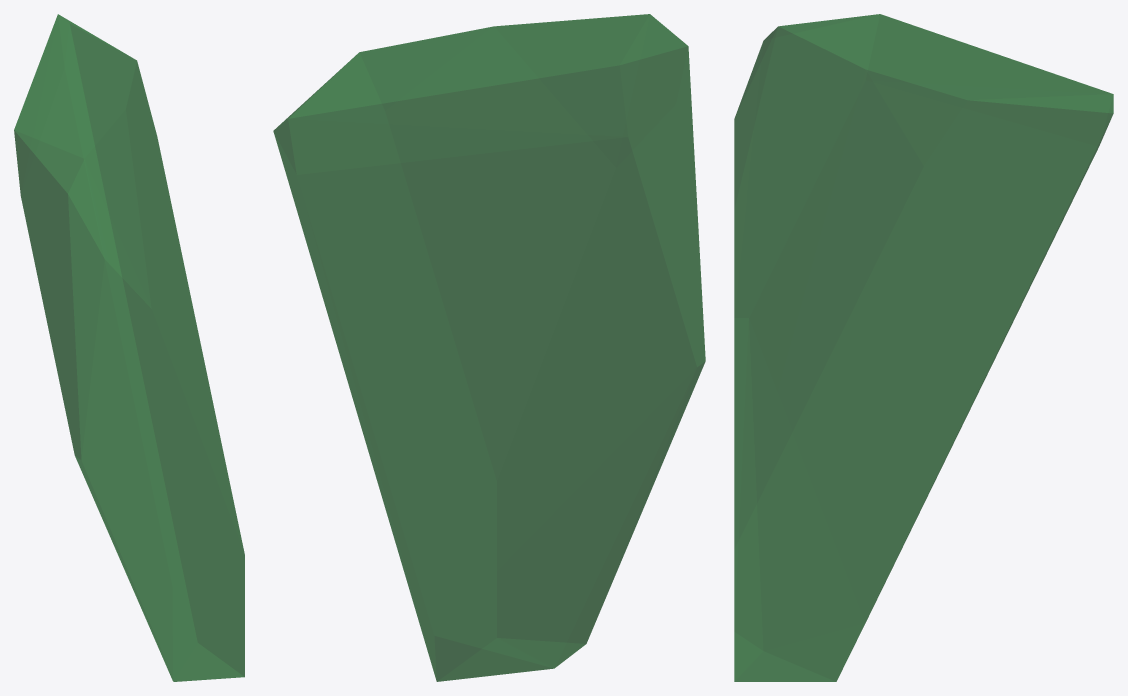
The picture shows the model from 3 angles, left to right: view 1: azimuth 30°, elevation 25°; view 2: azimuth 150°, elevation 25°; view 3: azimuth 270°, elevation 25°; orthographic projection. The views are drawn at different scales.
Visible parts, largest first — view 1: Shape_IndexedFaceSet.077_Shape_IndexedFaceSet.7828; view 2: Shape_IndexedFaceSet.077_Shape_IndexedFaceSet.7828; view 3: Shape_IndexedFaceSet.077_Shape_IndexedFaceSet.7828.
Part boxes in pixels (x1=…): Shape_IndexedFaceSet.077_Shape_IndexedFaceSet.7828: x1=14, y1=14, x2=244, y2=681; Shape_IndexedFaceSet.077_Shape_IndexedFaceSet.7828: x1=273, y1=14, x2=705, y2=681; Shape_IndexedFaceSet.077_Shape_IndexedFaceSet.7828: x1=734, y1=14, x2=1113, y2=681.
Size of the model in its own units: 0.0191 by 0.0601 by 0.0355.
